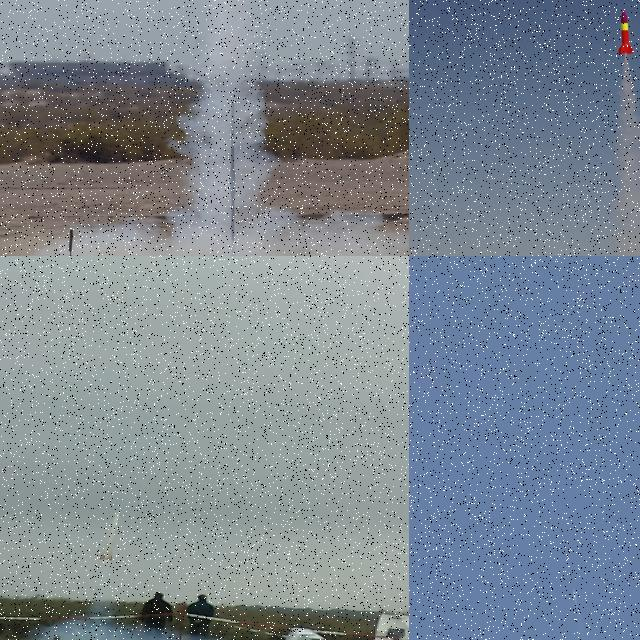Rocket: (98, 510, 120, 560), (618, 9, 635, 56), (572, 588, 578, 603)
